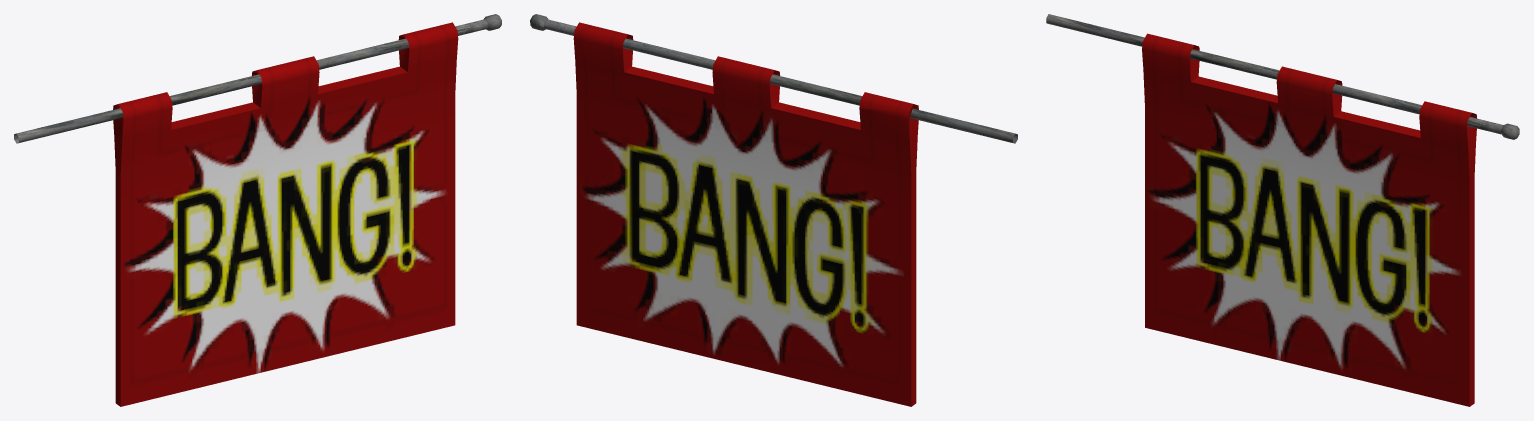
Rendered from gun banner.obj.
The picture shows the model from 3 angles, left to right: view 1: azimuth 30°, elevation 25°; view 2: azimuth 150°, elevation 25°; view 3: azimuth 330°, elevation 25°; orthographic projection. The views are drawn at different scales.
Visible parts, largest first — view 1: Joker_Gun_Banner; view 2: Joker_Gun_Banner; view 3: Joker_Gun_Banner.
Part boxes in pixels (x1,y1,x2,y2): Joker_Gun_Banner: [14, 14, 501, 406]; Joker_Gun_Banner: [530, 14, 1017, 406]; Joker_Gun_Banner: [1046, 14, 1519, 406].
Bounding box in the file's own units: 2.77 × 1.64 × 0.1077.
